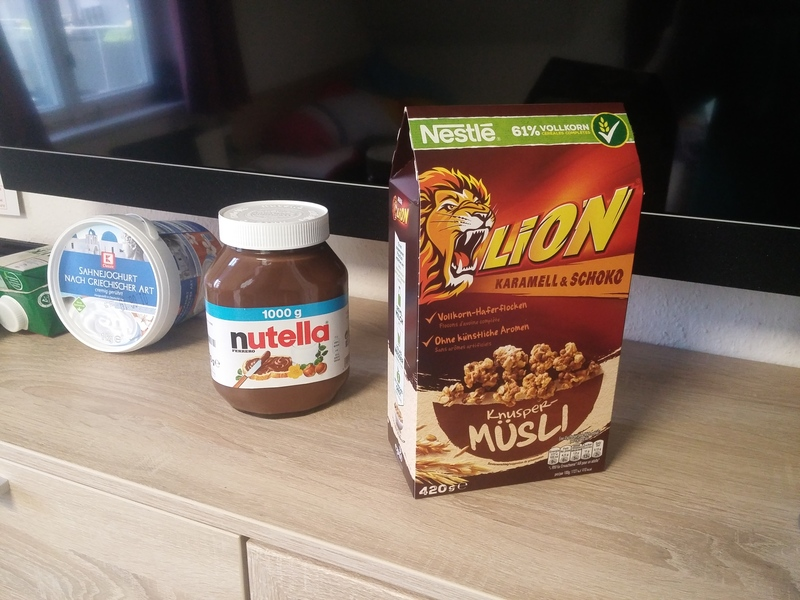cereals: (387, 104, 643, 501)
joghurt: (47, 213, 223, 356)
nutella: (203, 198, 352, 418)
